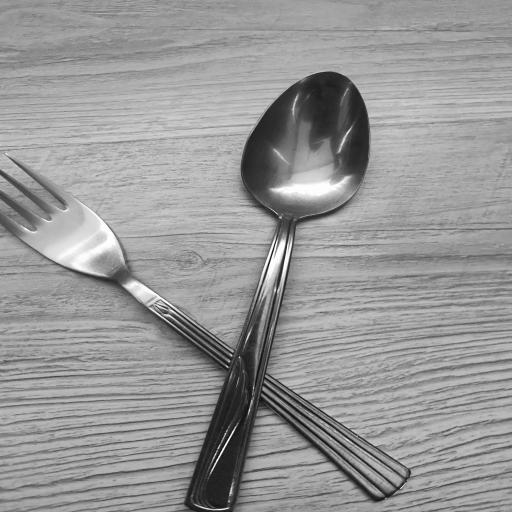fork: (0, 153, 418, 500)
spoon: (188, 73, 372, 510)
